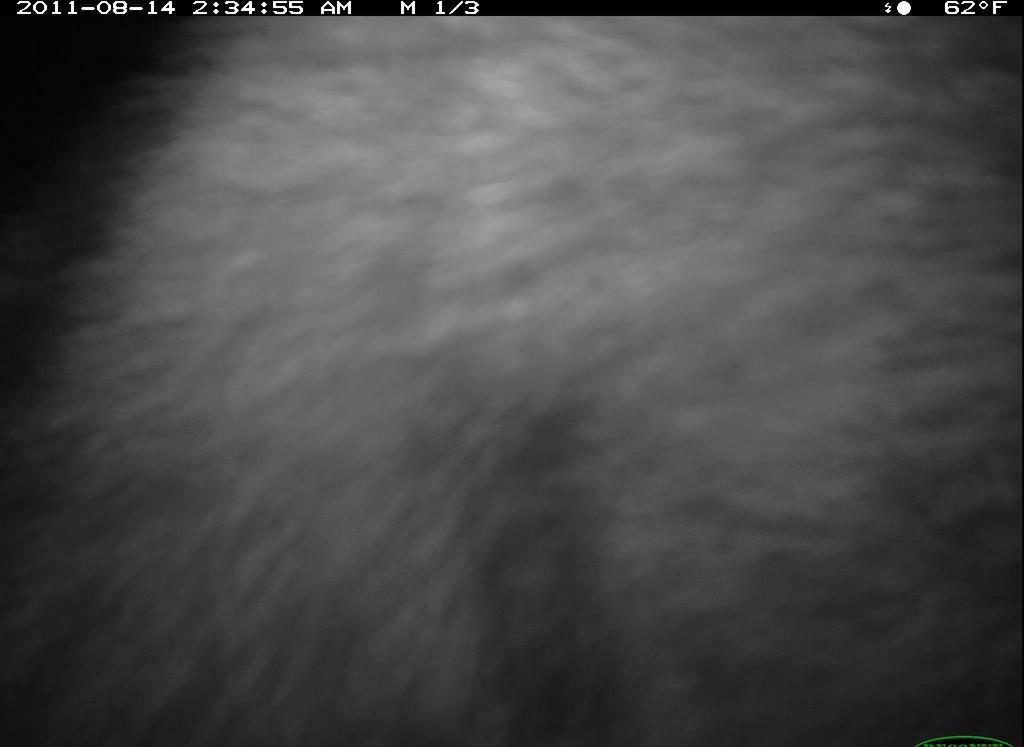raccoon: (8, 18, 1022, 747)
